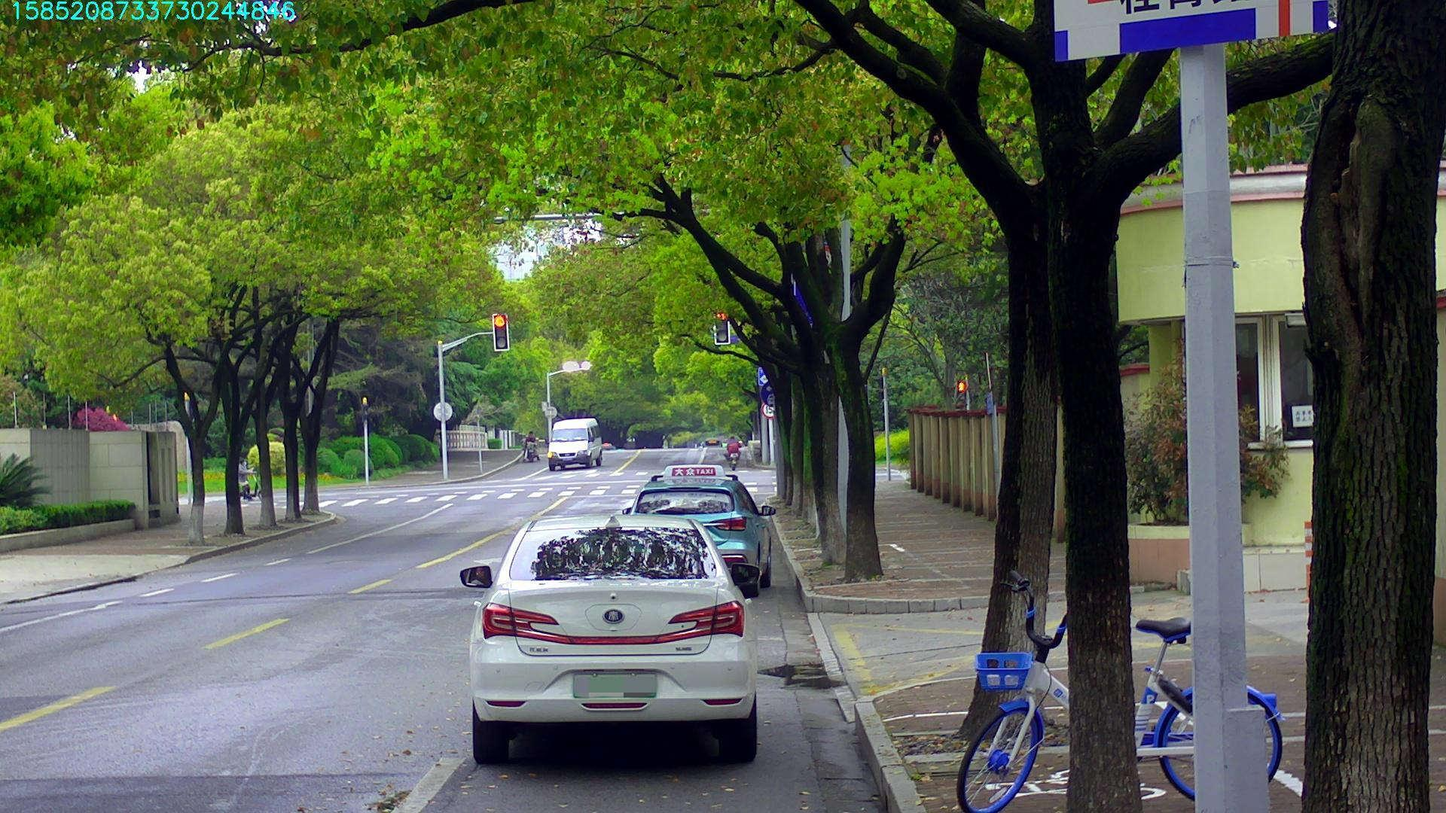red: (493, 313, 508, 350), (714, 312, 728, 344)
